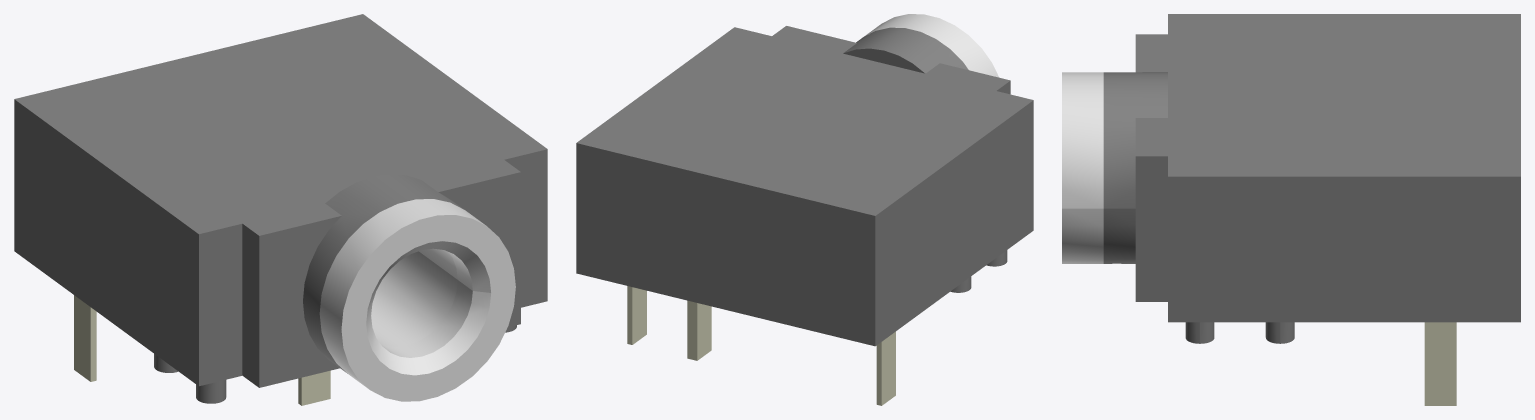
Rendered from kc-jack_3.5mm_cui_sj1-3524n_horizontal.glb.
3 views of the same model, side by side, from view 1: azimuth 30°, elevation 25°; view 2: azimuth 150°, elevation 25°; view 3: azimuth 270°, elevation 25° (orthographic). The views are drawn at different scales.
Parts seen in each view (by area): view 1: 0.25_0.25_0.25_0, 0.8333333333333334_0.8333333333333334_0.8333333333333334_0.8, 0.6666666666666666_0.6666666666666666_0.5_0; view 2: 0.25_0.25_0.25_0, 0.6666666666666666_0.6666666666666666_0.5_0, 0.8333333333333334_0.8333333333333334_0.8333333333333334_0.8; view 3: 0.25_0.25_0.25_0, 0.8333333333333334_0.8333333333333334_0.8333333333333334_0.8, 0.6666666666666666_0.6666666666666666_0.5_0.
Boxes of the visible parts, x1,y1,x2,y2 form: 0.25_0.25_0.25_0: (14, 14, 547, 403); 0.8333333333333334_0.8333333333333334_0.8333333333333334_0.8: (319, 199, 515, 401); 0.6666666666666666_0.6666666666666666_0.5_0: (74, 295, 330, 405); 0.25_0.25_0.25_0: (576, 26, 1033, 346); 0.6666666666666666_0.6666666666666666_0.5_0: (627, 286, 895, 405); 0.8333333333333334_0.8333333333333334_0.8333333333333334_0.8: (864, 14, 998, 77); 0.25_0.25_0.25_0: (1103, 14, 1520, 343); 0.8333333333333334_0.8333333333333334_0.8333333333333334_0.8: (1062, 72, 1103, 263); 0.6666666666666666_0.6666666666666666_0.5_0: (1424, 322, 1456, 405).
Size of the model in its own units: 1.2 by 0.88 by 1.43.
